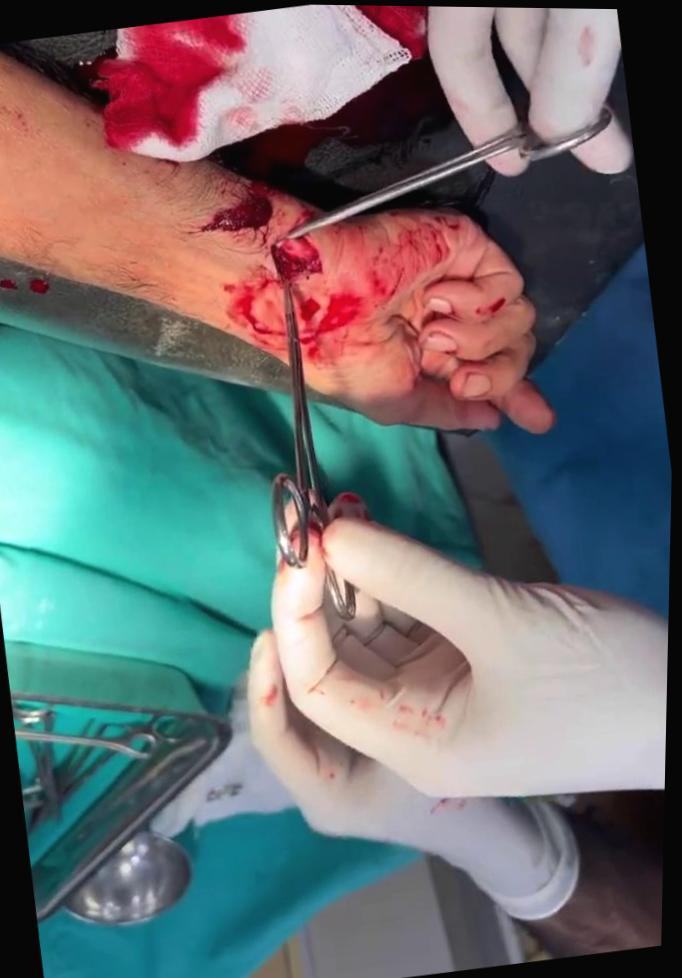Fire: (117, 147, 470, 361), (205, 4, 454, 179), (94, 13, 268, 152), (0, 277, 50, 314)
